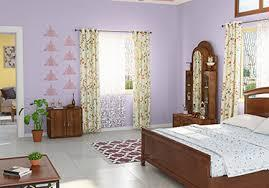bed: (138, 84, 269, 187)
chair: (0, 84, 19, 113)
table: (0, 151, 63, 188), (47, 107, 84, 140), (172, 114, 216, 126)
